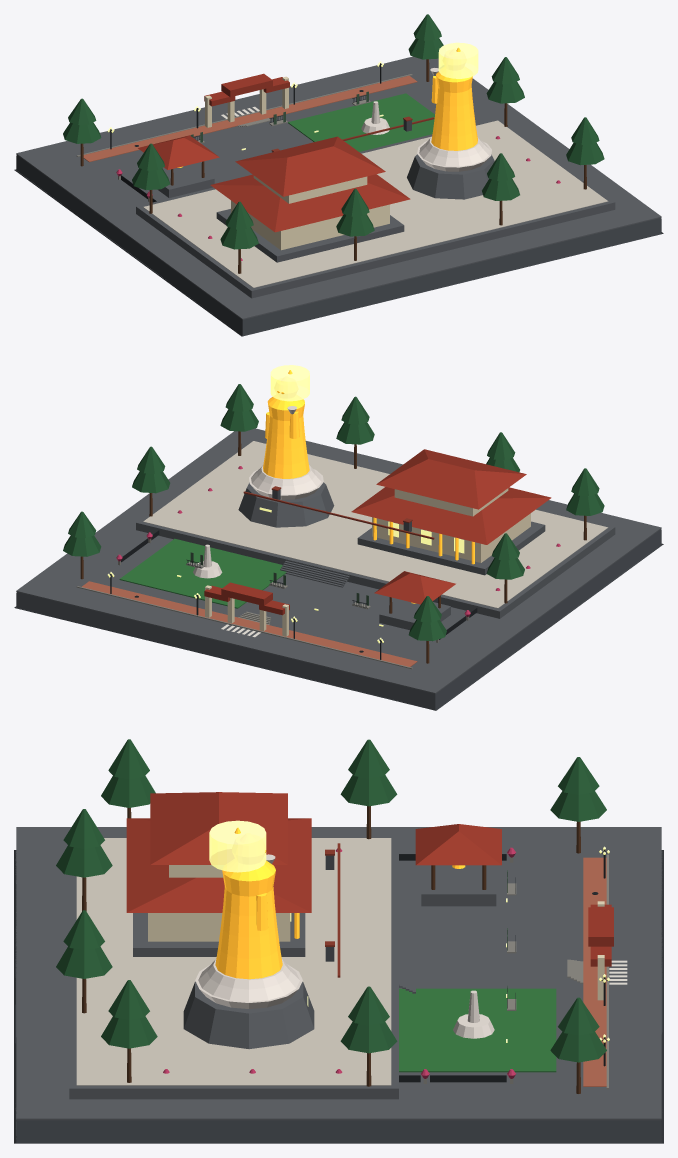
Rendered from lm_30_thien_vien_van_hanh.glb.
3 renders of one model, top to bottom at view 1: azimuth 30°, elevation 25°; view 2: azimuth 150°, elevation 25°; view 3: azimuth 270°, elevation 25°, orthographic. The views are drawn at different scales.
Parts seen in each view (by area): view 1: Foundation_Plinth_Trim, VanHanh_Main_Courtyard_Pave, VanHanh_Grotto_Rockery_And_Terraces, Foundation_Skirt, VanHanh_Pine_Forest, VanHanh_Dharma_Hall_Upper_Roof, VanHanh_Dharma_Hall_Lower_Roof, VanHanh_Garden_Lawns, VanHanh_Dharma_Hall_Walls, Shakyamuni_Golden_Statue_Body, Phase2_Interlocking_Brick_Sidewalk, Shakyamuni_Lotus_Pedestal (+6 smaller); view 2: Foundation_Plinth_Trim, VanHanh_Main_Courtyard_Pave, VanHanh_Grotto_Rockery_And_Terraces, Foundation_Skirt, VanHanh_Pine_Forest, VanHanh_Garden_Lawns, VanHanh_Dharma_Hall_Lower_Roof, VanHanh_Dharma_Hall_Upper_Roof, Shakyamuni_Golden_Statue_Body, VanHanh_Dharma_Hall_Walls, Phase2_Interlocking_Brick_Sidewalk, Shakyamuni_Lotus_Pedestal (+7 smaller); view 3: Foundation_Plinth_Trim, VanHanh_Main_Courtyard_Pave, VanHanh_Grotto_Rockery_And_Terraces, VanHanh_Pine_Forest, Foundation_Skirt, VanHanh_Garden_Lawns, VanHanh_Dharma_Hall_Lower_Roof, VanHanh_Dharma_Hall_Upper_Roof, Shakyamuni_Golden_Statue_Body, Shakyamuni_Lotus_Pedestal, VanHanh_Dharma_Hall_Walls, VanHanh_Bell_Tower_Roof (+7 smaller).
Part boxes in pixels (x1=…): Foundation_Plinth_Trim: x1=16, y1=56, x2=661, y2=319; VanHanh_Main_Courtyard_Pave: x1=143, y1=120, x2=608, y2=287; VanHanh_Grotto_Rockery_And_Terraces: x1=136, y1=118, x2=615, y2=298; Foundation_Skirt: x1=14, y1=155, x2=663, y2=336; VanHanh_Pine_Forest: x1=63, y1=14, x2=604, y2=249; VanHanh_Dharma_Hall_Upper_Roof: x1=235, y1=136, x2=385, y2=196; VanHanh_Dharma_Hall_Lower_Roof: x1=210, y1=174, x2=410, y2=232; VanHanh_Garden_Lawns: x1=288, y1=93, x2=434, y2=151; VanHanh_Dharma_Hall_Walls: x1=205, y1=76, x2=389, y2=250; Shakyamuni_Golden_Statue_Body: x1=177, y1=47, x2=477, y2=167; Phase2_Interlocking_Brick_Sidewalk: x1=83, y1=75, x2=417, y2=162; Shakyamuni_Lotus_Pedestal: x1=361, y1=68, x2=491, y2=171; Foundation_Plinth_Trim: x1=16, y1=428, x2=661, y2=693; VanHanh_Main_Courtyard_Pave: x1=143, y1=441, x2=608, y2=608; VanHanh_Grotto_Rockery_And_Terraces: x1=136, y1=438, x2=615, y2=630; Foundation_Skirt: x1=14, y1=529, x2=663, y2=710; VanHanh_Pine_Forest: x1=63, y1=384, x2=604, y2=641; VanHanh_Garden_Lawns: x1=119, y1=538, x2=286, y2=608; VanHanh_Dharma_Hall_Lower_Roof: x1=351, y1=487, x2=551, y2=544; VanHanh_Dharma_Hall_Upper_Roof: x1=376, y1=449, x2=526, y2=509; Shakyamuni_Golden_Statue_Body: x1=263, y1=370, x2=474, y2=603; VanHanh_Dharma_Hall_Walls: x1=205, y1=488, x2=530, y2=636; Phase2_Interlocking_Brick_Sidewalk: x1=82, y1=581, x2=417, y2=666; Shakyamuni_Lotus_Pedestal: x1=193, y1=406, x2=323, y2=578; Foundation_Plinth_Trim: x1=16, y1=827, x2=661, y2=1120; VanHanh_Main_Courtyard_Pave: x1=76, y1=838, x2=391, y2=1085; VanHanh_Grotto_Rockery_And_Terraces: x1=69, y1=835, x2=496, y2=1099; VanHanh_Pine_Forest: x1=56, y1=739, x2=606, y2=1062; Foundation_Skirt: x1=14, y1=850, x2=663, y2=1143; VanHanh_Garden_Lawns: x1=399, y1=988, x2=556, y2=1072; VanHanh_Dharma_Hall_Lower_Roof: x1=126, y1=818, x2=311, y2=912; VanHanh_Dharma_Hall_Upper_Roof: x1=150, y1=792, x2=287, y2=864; Shakyamuni_Golden_Statue_Body: x1=215, y1=827, x2=465, y2=979; Shakyamuni_Lotus_Pedestal: x1=195, y1=854, x2=494, y2=1038; VanHanh_Dharma_Hall_Walls: x1=148, y1=865, x2=604, y2=1000; VanHanh_Bell_Tower_Roof: x1=415, y1=824, x2=501, y2=865.
Bounding box in the file's own units: 92.82 × 33.5 × 86.76.
